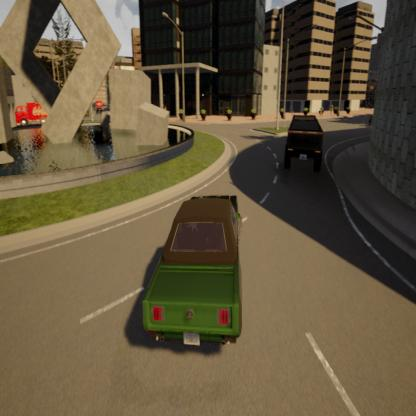Cars: (140, 193, 244, 351), (284, 112, 323, 174)
